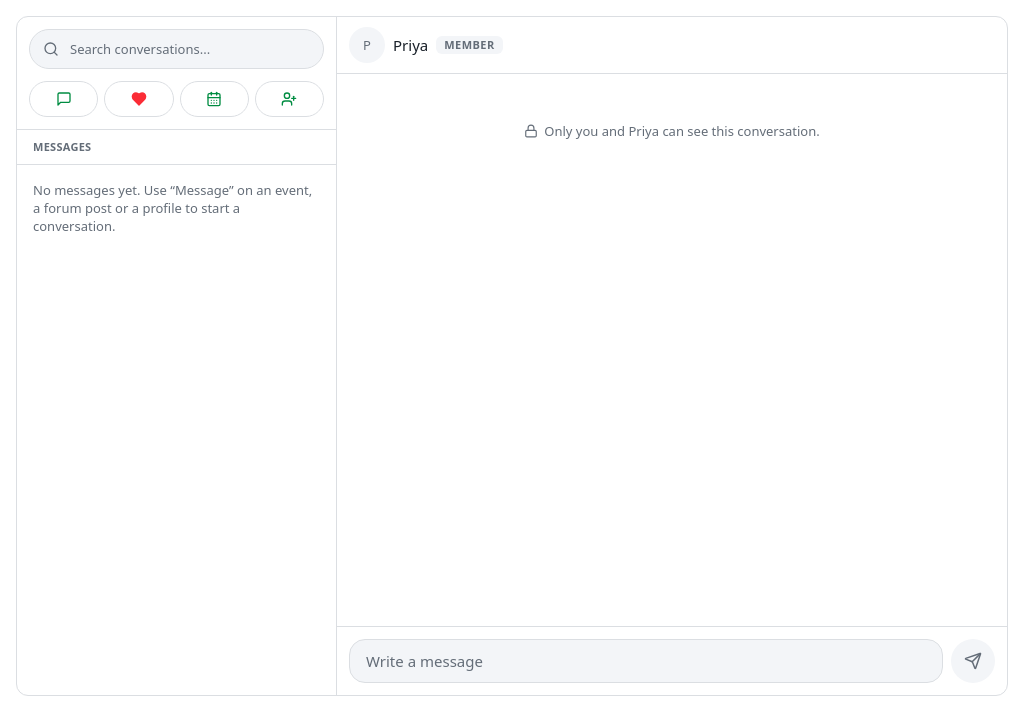
Test: sending a message › keeps a failed message on screen with Retry, and retrying sends it again
Type "Hello" into the text box named "Message Priya".
click(646, 661); type("Hello")  # box [349,639,943,683]
Then press Enter
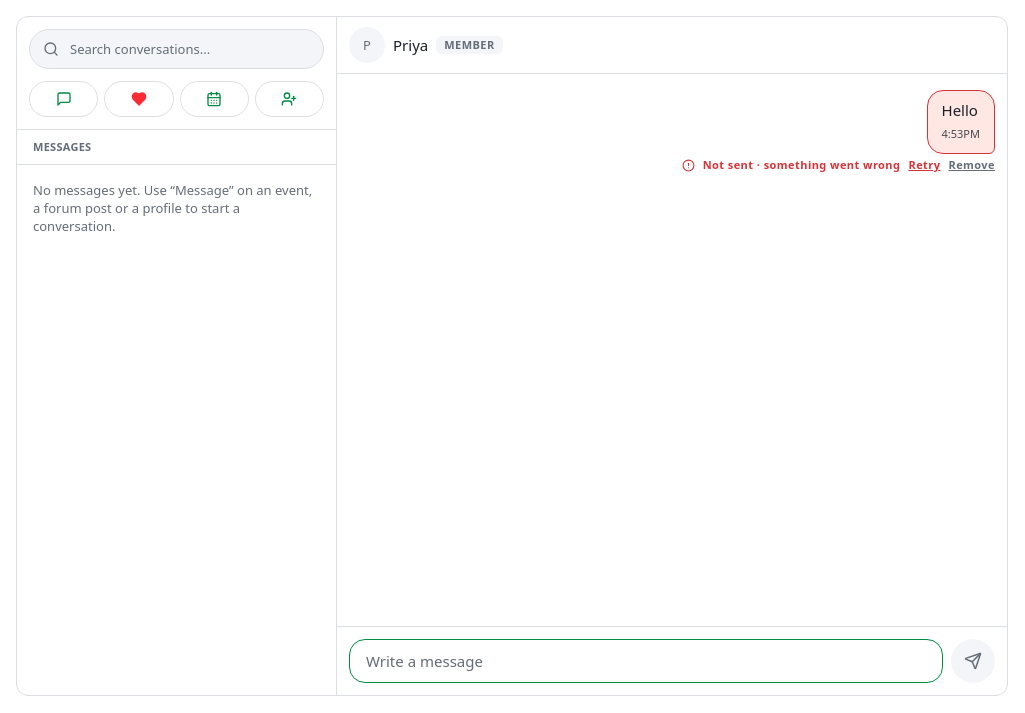
Expected: the message shows "Not sent", [703,157,754,172]
Expected: the text "Hello" is shown, [942,99,980,121]
Click the button "Retry".
click(924, 165)  # box [908,158,940,172]
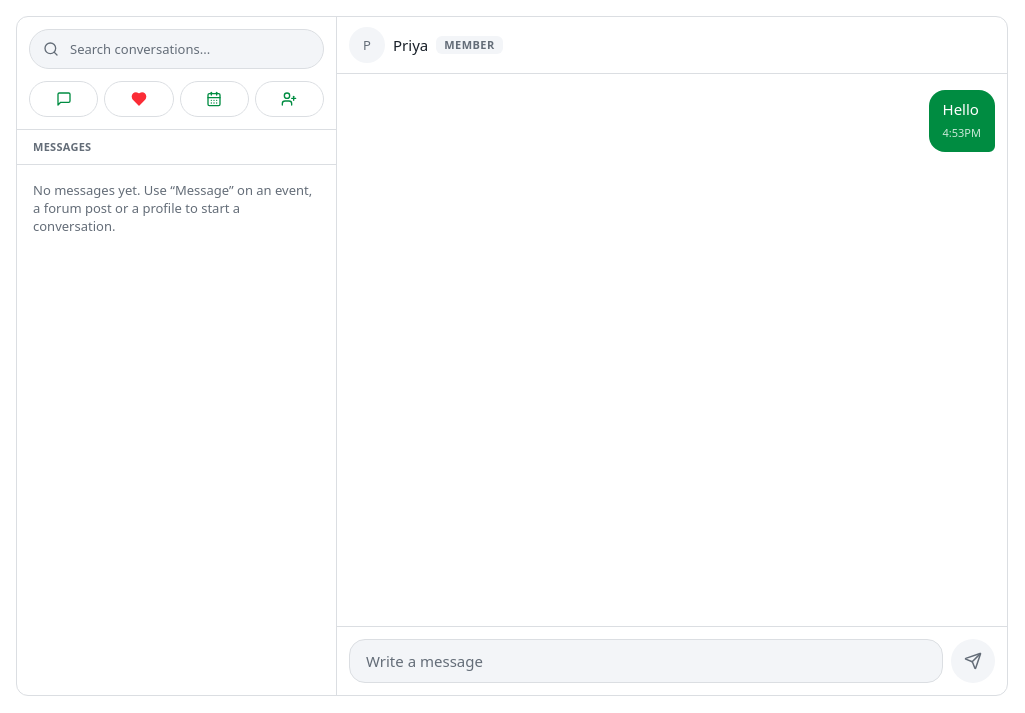
Expected: the message "Not sent · something went wrong Retry Remove" is gone
